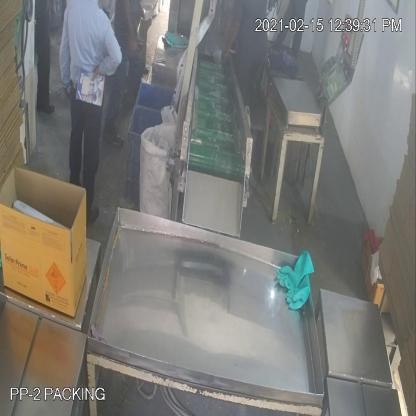glove: (276, 245, 316, 316)
no_glove: (90, 23, 127, 84), (118, 0, 144, 62), (221, 6, 238, 68)
